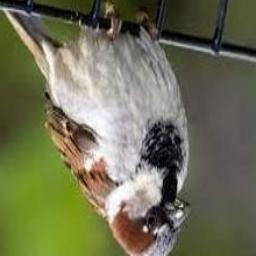Sparrow: (0, 0, 190, 256)
